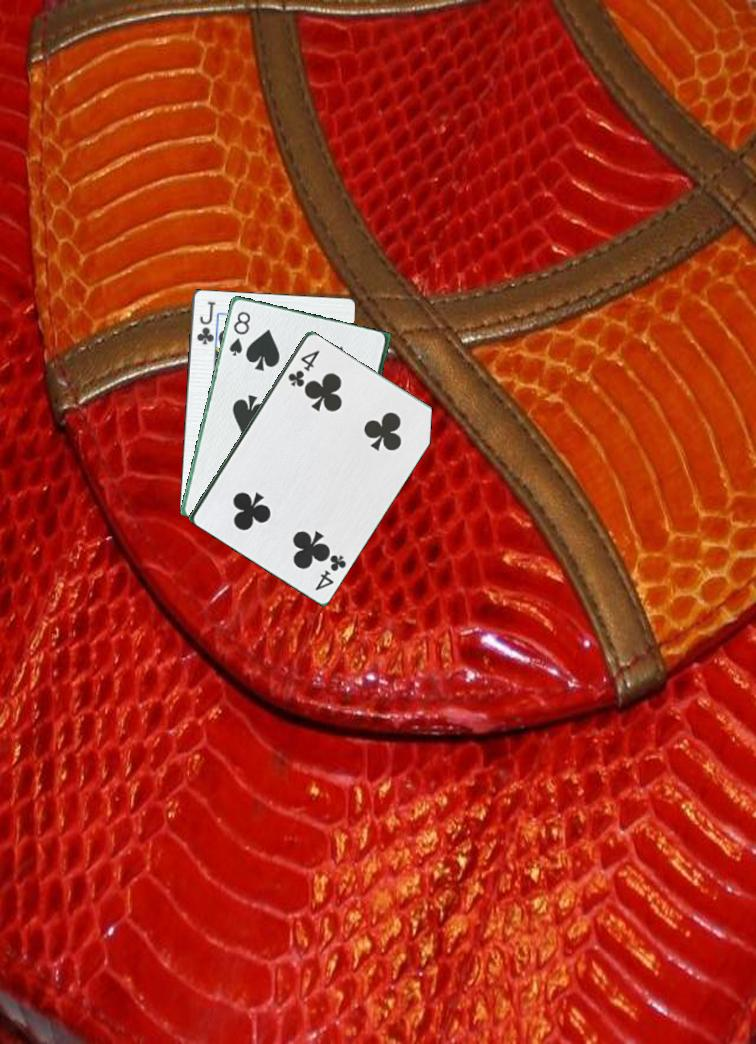4c: (284, 346, 322, 390), (311, 549, 349, 593)
8s: (225, 303, 256, 359)
jc: (193, 298, 217, 347)
